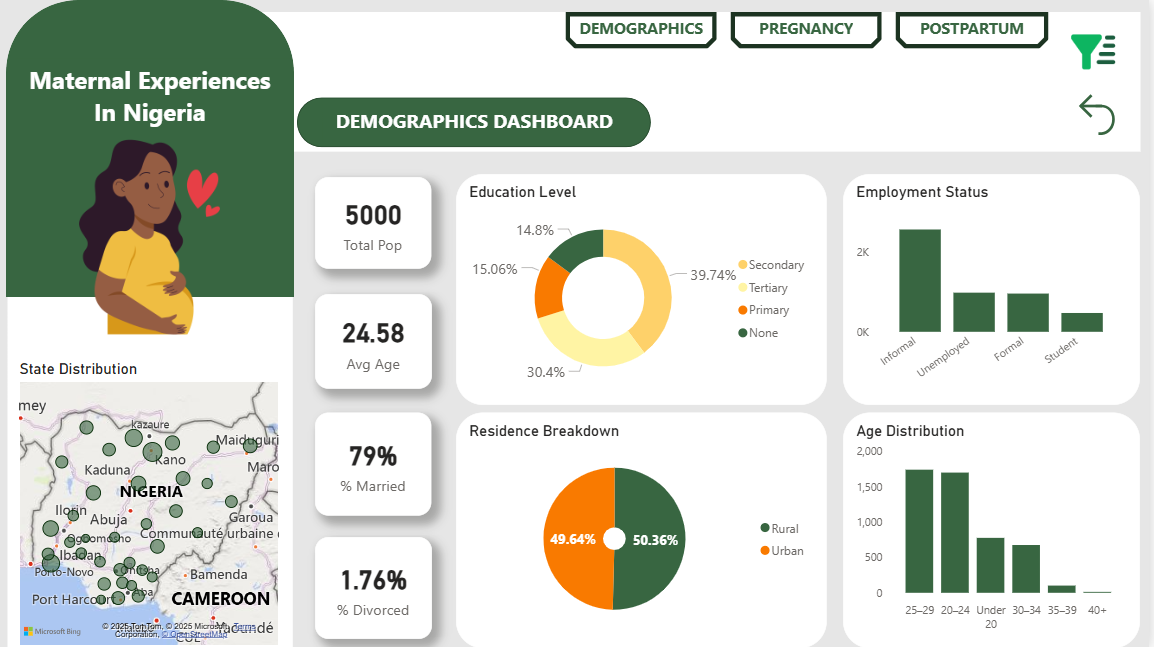

Layout of this report page (visuals, bound fields, positions):
{"tool":"powerbi","page":{"name":"Demographics","canvas":[1280,720],"ordinal":0},"visuals":[{"type":"group","id":"g1","title":"Dashboard","box":[10,0,1260.7,720.5],"z":0},{"type":"shape","box":[11.7,330,317,390],"z":0,"group":"g1"},{"type":"shape","box":[253.4,13.8,1017.2,155.2],"z":1000,"group":"g1"},{"type":"shape","box":[10,0,320,330],"z":2000,"group":"g1"},{"type":"actionButton","title":"Demographics Button","box":[631.6,13.5,168.1,40.6],"z":2000},{"type":"actionButton","title":"Pregnancy Button","box":[815.1,13.5,168.1,40.6],"z":3000},{"type":"textbox","box":[20.7,65.2,307,90.7],"z":3000,"group":"g1"},{"type":"actionButton","title":"Postpartum Button","box":[998.6,13.5,170,40.6],"z":4000},{"type":"clusteredColumnChart","title":"Employment Status","fields":{"Category":["nigeria_maternal_demographics_5000.employment_status"],"Y":["CountNonNull(nigeria_maternal_demographics_5000.mother_id)"]},"box":[940,193.3,330,256.7],"z":4000,"group":"g1"},{"type":"actionButton","title":"Reset Button","box":[1182.7,96.6,77.3,58],"z":5000},{"type":"donutChart","title":"Residence Breakdown","fields":{"Category":["nigeria_maternal_demographics_5000.rural_urban"],"Y":["CountNonNull(nigeria_maternal_demographics_5000.mother_id)"]},"box":[510,458.3,411.7,261.7],"z":5000,"group":"g1"},{"type":"clusteredColumnChart","title":"Age Distribution","fields":{"Category":["nigeria_maternal_demographics_5000.Age Group"],"Y":["CountNonNull(nigeria_maternal_demographics_5000.mother_id)"]},"box":[940,458.3,330,261.7],"z":6000,"group":"g1"},{"type":"donutChart","title":"Education Level","fields":{"Category":["nigeria_maternal_demographics_5000.education_level"],"Y":["CountNonNull(nigeria_maternal_demographics_5000.mother_id)"]},"box":[510,193.3,411.7,256.7],"z":7000,"group":"g1"},{"type":"map","title":"State Distribution","fields":{"Category":["nigeria_maternal_demographics_5000.state"],"Size":["CountNonNull(nigeria_maternal_demographics_5000.mother_id)"]},"box":[20.7,399.2,297.4,321.3],"z":8000,"group":"g1"},{"type":"card","fields":{"Values":["nigeria_maternal_demographics_5000.Total Pop"]},"box":[354,196.7,129.3,102],"z":9000,"group":"g1"},{"type":"card","fields":{"Values":["nigeria_maternal_demographics_5000.% Married"]},"box":[354,459.1,129.3,114.8],"z":10000,"group":"g1"},{"type":"card","fields":{"Values":["nigeria_maternal_demographics_5000.Avg Age"]},"box":[353.3,326.7,130,105],"z":11000,"group":"g1"},{"type":"card","fields":{"Values":["nigeria_maternal_demographics_5000.% Divorced"]},"box":[353.3,596.7,130,113.3],"z":12000,"group":"g1"},{"type":"shape","title":"Dashboard Title","box":[332.5,107.7,393.1,55.2],"z":13000,"group":"g1"},{"type":"textbox","box":[360.9,112.8,337.2,44.5],"z":14000,"group":"g1"},{"type":"image","box":[19.1,135.2,299,256.1],"z":15000,"group":"g1"},{"type":"image","title":"Filter Icon","box":[1182.6,25.4,68.4,65.2],"z":15500,"group":"g1"}]}

Visuals, with their boxes in screenshot pixels (x1, y1, x2, y2), scaled from the page's 1280x720 canvas onto the 1154x647 screenshot:
"Dashboard" group: (9, 0, 1146, 646)
shape: (11, 297, 296, 646)
shape: (228, 12, 1146, 152)
shape: (9, 0, 298, 297)
"Demographics Button" actionButton: (569, 12, 721, 49)
"Pregnancy Button" actionButton: (735, 12, 886, 49)
textbox: (19, 59, 295, 140)
"Postpartum Button" actionButton: (900, 12, 1054, 49)
"Employment Status" clusteredColumnChart: (847, 174, 1145, 404)
"Reset Button" actionButton: (1066, 87, 1136, 139)
"Residence Breakdown" donutChart: (460, 412, 831, 646)
"Age Distribution" clusteredColumnChart: (847, 412, 1145, 646)
"Education Level" donutChart: (460, 174, 831, 404)
"State Distribution" map: (19, 359, 287, 646)
card - nigeria_maternal_demographics_5000.Total Pop: (319, 177, 436, 268)
card - nigeria_maternal_demographics_5000.% Married: (319, 413, 436, 516)
card - nigeria_maternal_demographics_5000.Avg Age: (319, 294, 436, 388)
card - nigeria_maternal_demographics_5000.% Divorced: (319, 536, 436, 638)
"Dashboard Title" shape: (300, 97, 654, 146)
textbox: (325, 101, 629, 141)
image: (17, 121, 287, 352)
"Filter Icon" image: (1066, 23, 1128, 81)
